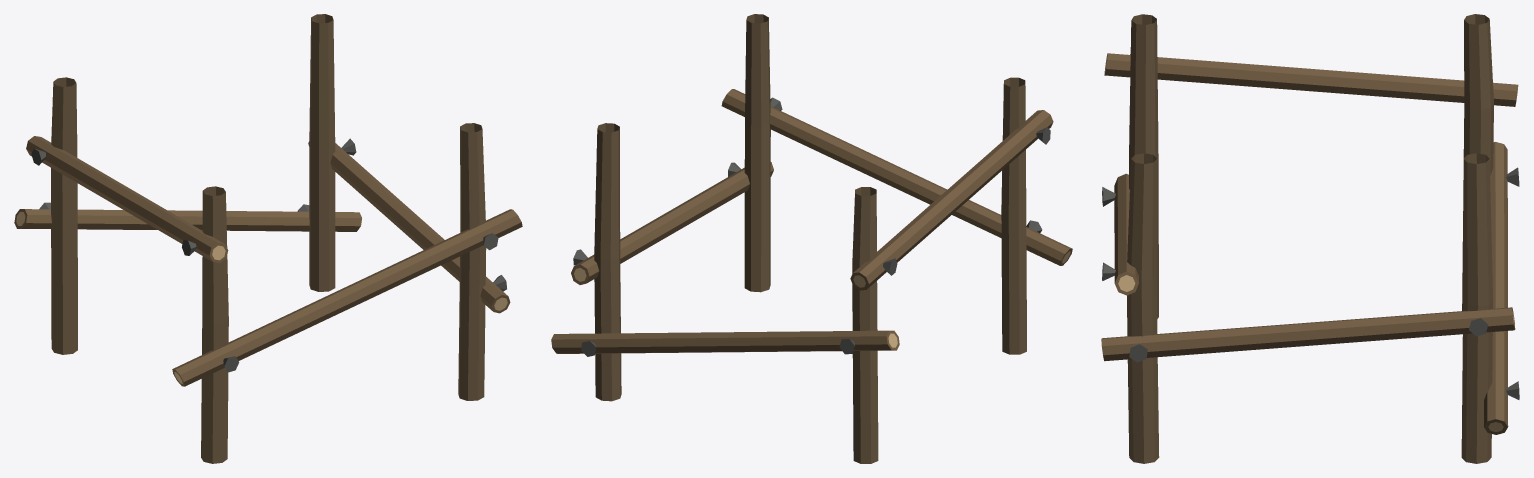
Rendered from rpgpp_ag_tower_01_support_01a.fbx.
3 views of the same model, side by side, from view 1: azimuth 30°, elevation 25°; view 2: azimuth 150°, elevation 25°; view 3: azimuth 270°, elevation 25° (orthographic). The views are drawn at different scales.
Visible parts, largest first — view 1: rpgpp_ag_tower_01_support_01a; view 2: rpgpp_ag_tower_01_support_01a; view 3: rpgpp_ag_tower_01_support_01a.
Boxes of the visible parts, x1=… form: rpgpp_ag_tower_01_support_01a: x1=14, y1=14, x2=522, y2=463; rpgpp_ag_tower_01_support_01a: x1=551, y1=14, x2=1072, y2=463; rpgpp_ag_tower_01_support_01a: x1=1101, y1=14, x2=1519, y2=463.
Bounding box in the file's own units: 5.3 × 3.87 × 4.91.
